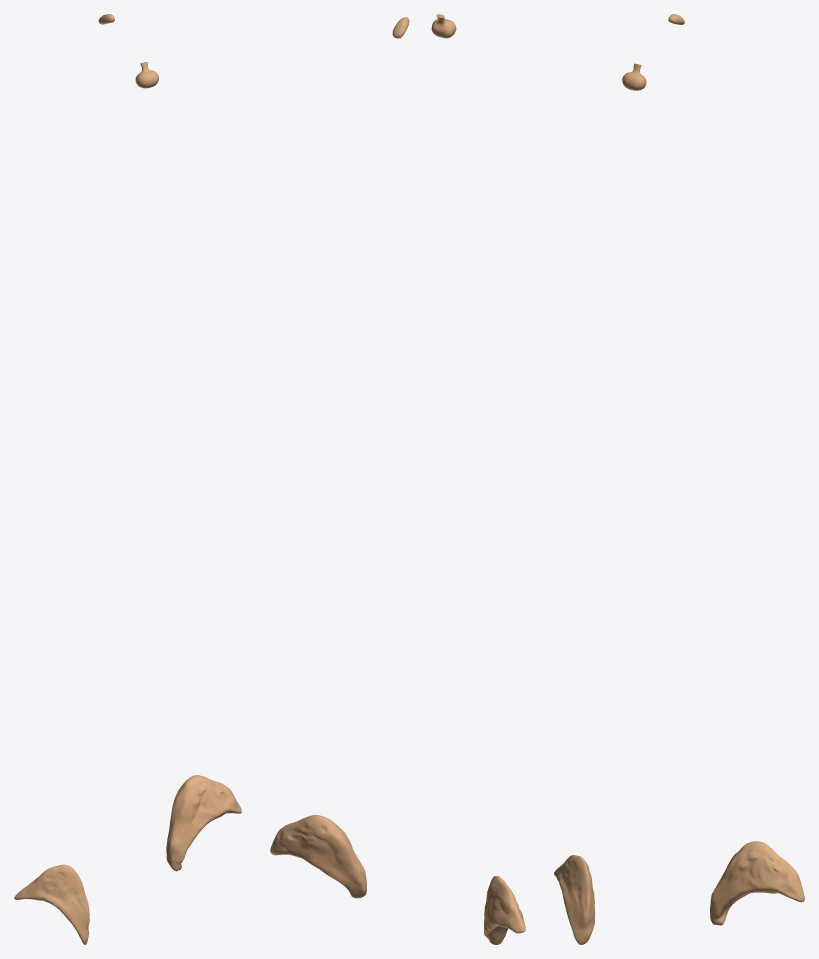
Rendered from endocrine.glb.
3 views of the same model, side by side, from view 1: azimuth 30°, elevation 25°; view 2: azimuth 150°, elevation 25°; view 3: azimuth 330°, elevation 25° (orthographic). The views are drawn at different scales.
Visible parts, largest first — view 1: FMA15630, FMA15629; view 2: FMA15630, FMA15629; view 3: FMA15630, FMA15629.
Boxes of the visible parts, x1,y1,x2,y2 form: FMA15630: [166, 775, 241, 871]; FMA15629: [14, 864, 89, 944]; FMA15630: [270, 815, 366, 898]; FMA15629: [484, 876, 525, 944]; FMA15630: [710, 841, 804, 925]; FMA15629: [554, 855, 595, 944].
Bounding box in the file's own units: 0.2819 × 1.03 × 0.105.
